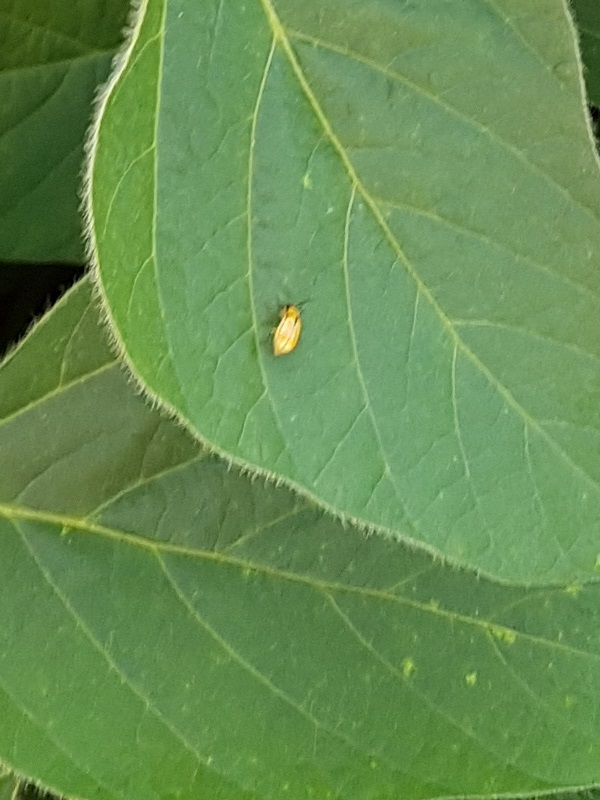Diabrotica_speciosa: (238, 283, 336, 380)
